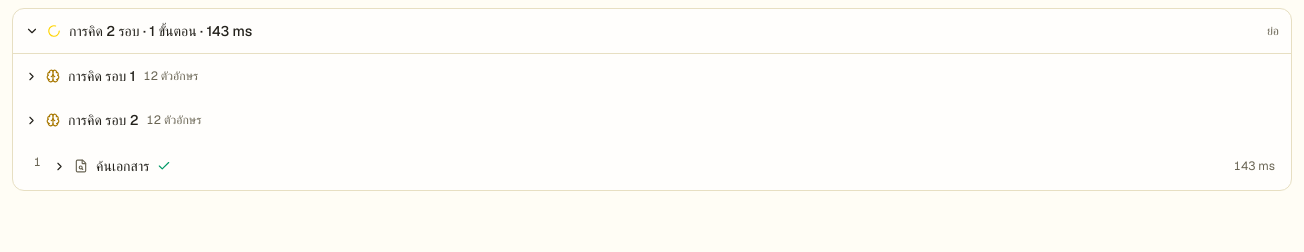
Test case: reasoning rounds › shows each round separately instead of appending to the first
Expected: the text "การคิด รอบ 1" is shown, [68,66,136,86]
Expected: the text "การคิด รอบ 2" is shown, [68,110,139,130]
Step 1. Click the button "การคิด รอบ 2 12 ตัวอักษร" → (99, 120), box [13,98,1291,142]
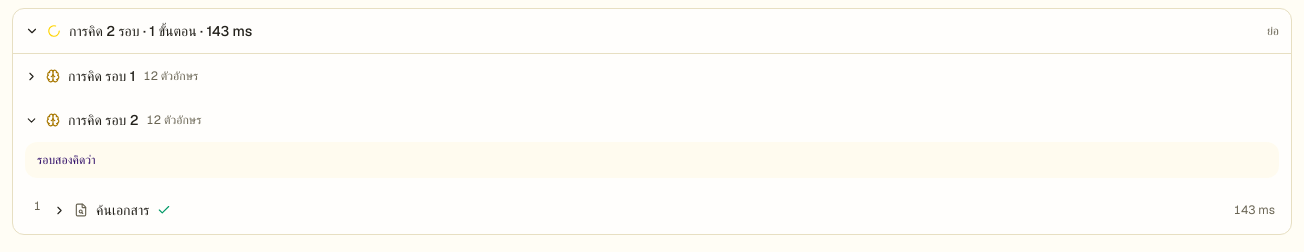
Expected: the text "รอบสองคิดว่า" is shown, [25,142,1279,178]
